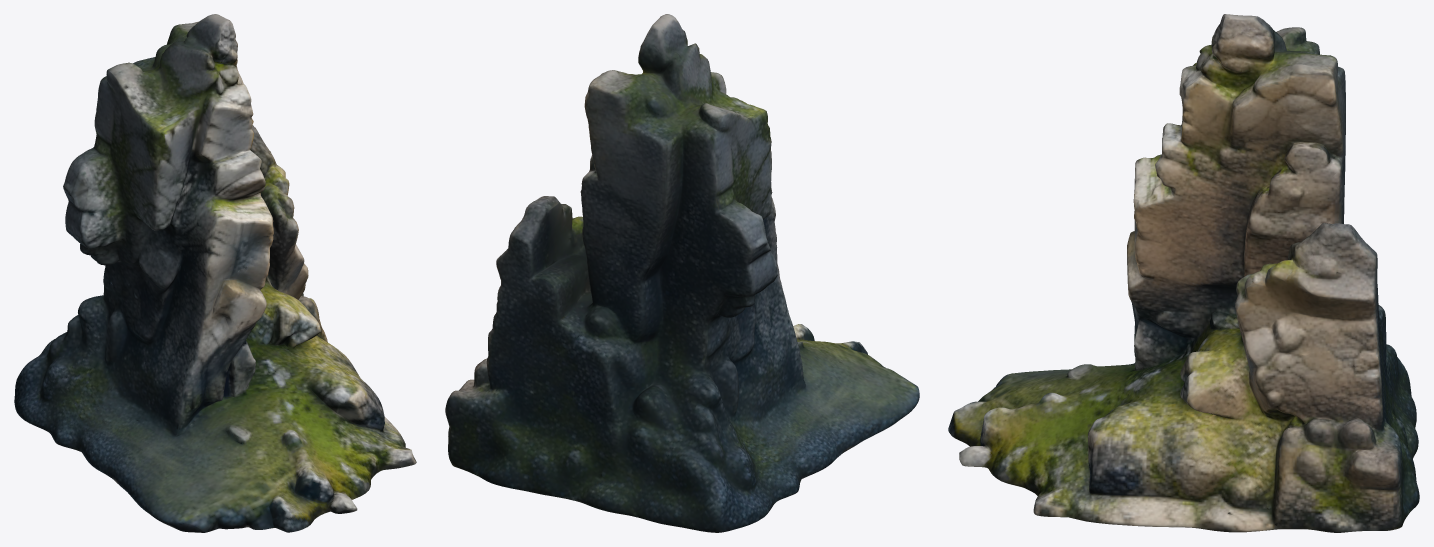
Rendered from mossy-rock.glb.
3 renders of one model, left to right at view 1: azimuth 30°, elevation 25°; view 2: azimuth 150°, elevation 25°; view 3: azimuth 270°, elevation 25°, orthographic. The views are drawn at different scales.
Visible parts, largest first — view 1: node_0; view 2: node_0; view 3: node_0.
Part boxes in pixels (x1,y1,x2,y2): node_0: (14, 14, 416, 532); node_0: (445, 14, 919, 532); node_0: (948, 14, 1419, 532).
Size of the model in its own units: 0.5963 by 0.8 by 0.7679.
Materials: 1 (1 with a texture image).
